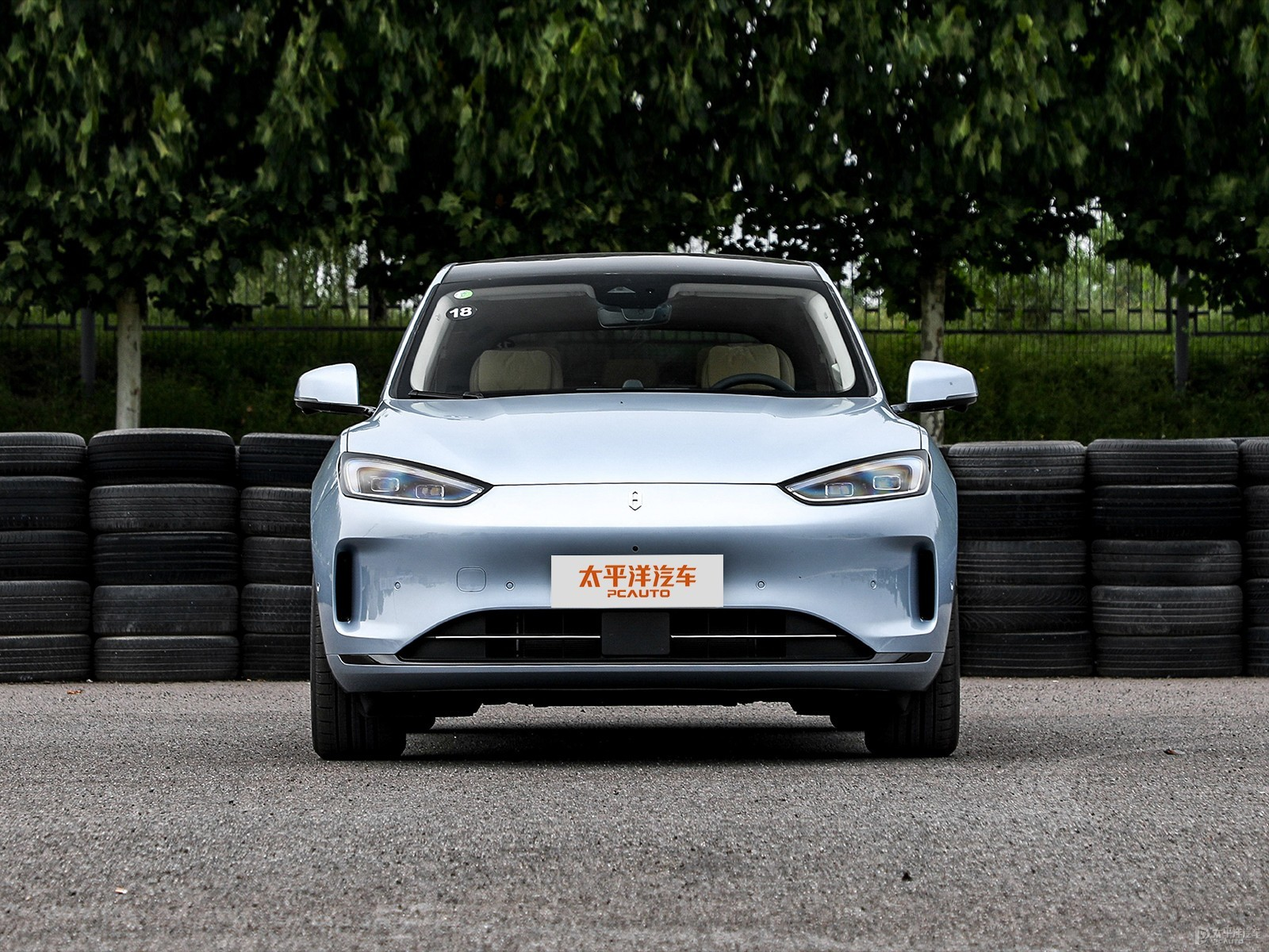AITO: (629, 488, 642, 511)
